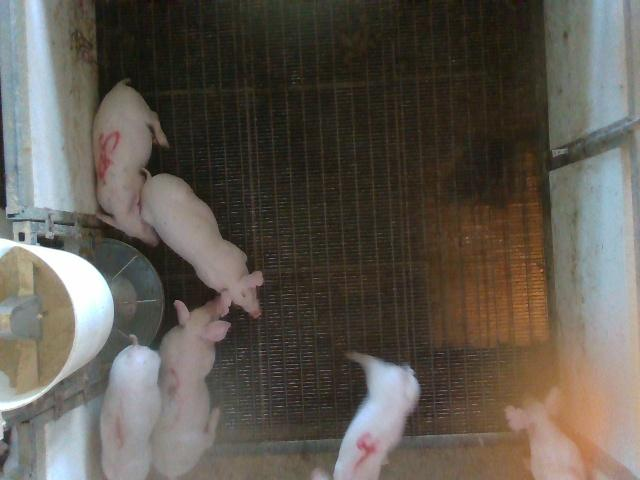pig-1: (100, 335, 161, 479)
pig-3: (151, 292, 231, 479)
pig-4: (334, 352, 420, 479)
pig-5: (94, 80, 169, 246)
